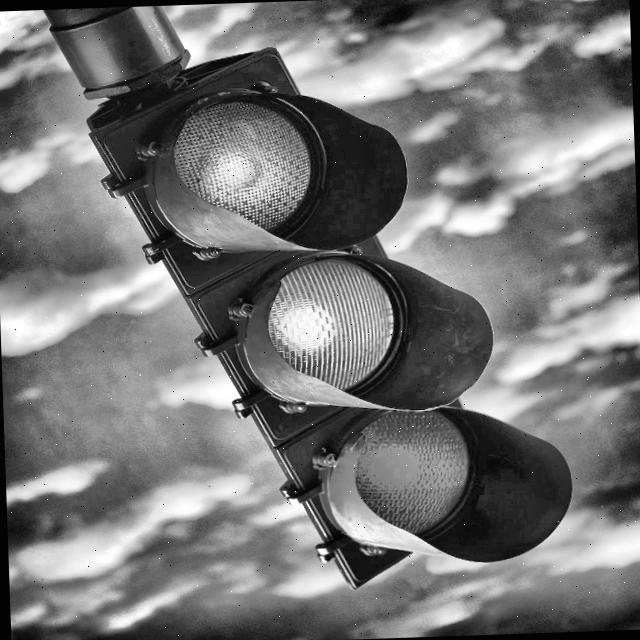traffic light: (94, 25, 586, 601)
